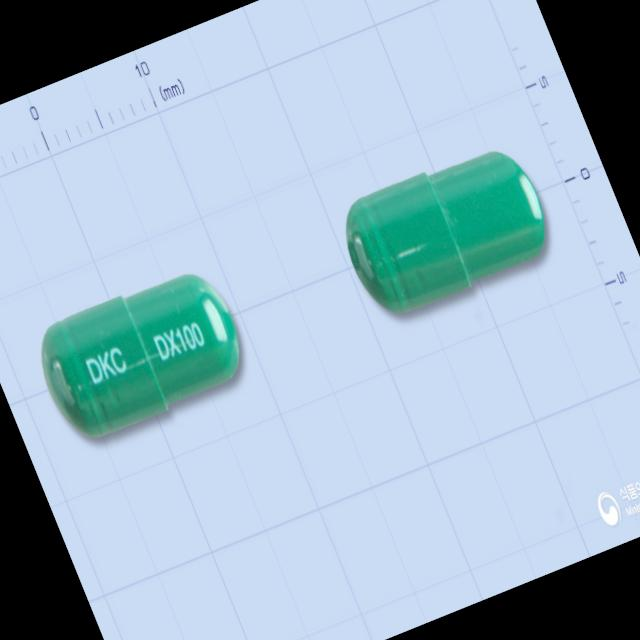Doxiramycin Cap: (24, 256, 258, 450)
